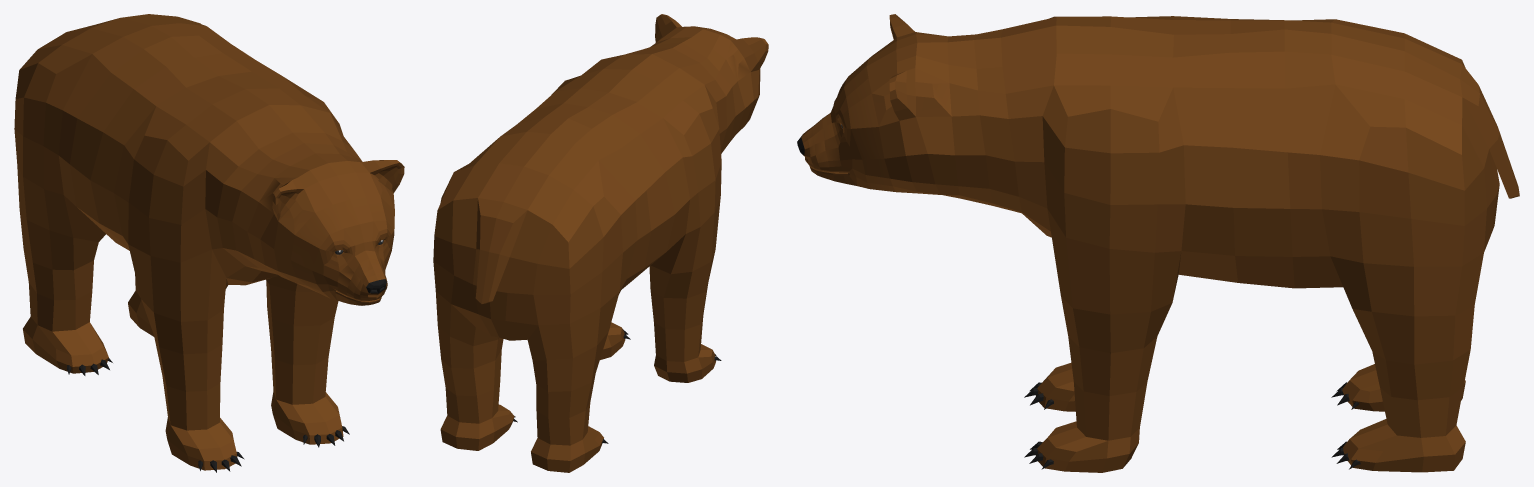
3 renders of one model, left to right at view 1: azimuth 30°, elevation 25°; view 2: azimuth 150°, elevation 25°; view 3: azimuth 270°, elevation 25°, orthographic. The views are drawn at different scales.
Parts seen in each view (by area): view 1: Low Poly Bear, BearClaws; view 2: Low Poly Bear; view 3: Low Poly Bear, BearClaws.
Boxes of the visible parts, <box> form: Low Poly Bear: <box>14,14,404,470</box>; BearClaws: <box>67,358,349,472</box>; Low Poly Bear: <box>433,14,768,472</box>; Low Poly Bear: <box>797,14,1519,472</box>; BearClaws: <box>1024,382,1360,469</box>.
Size of the model in its own units: 0.8527 by 1.37 by 2.22.
